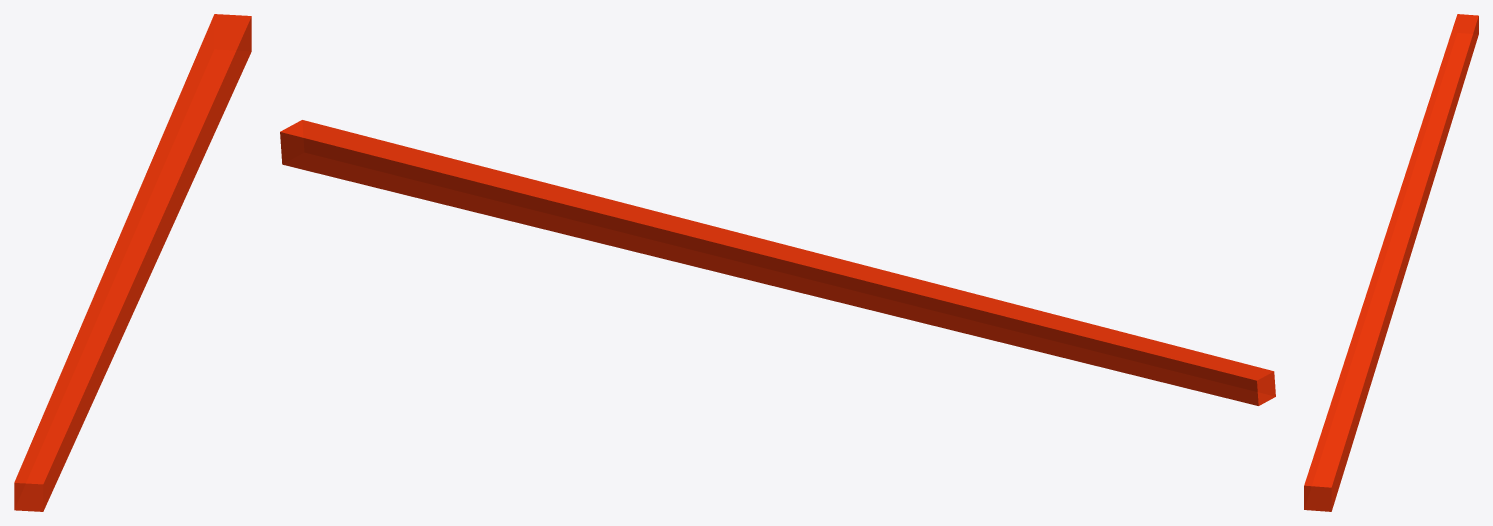
File: Event_420107950_EErechit_68.fbx
The picture shows the model from 3 angles, left to right: view 1: azimuth 90°, elevation 25°; view 2: azimuth 150°, elevation 25°; view 3: azimuth 270°, elevation 25°; orthographic projection. The views are drawn at different scales.
Visible parts, largest first — view 1: Model; view 2: Model; view 3: Model.
Boxes of the visible parts, x1,y1,x2,y2 form: Model: [14, 14, 251, 511]; Model: [280, 120, 1275, 405]; Model: [1304, 14, 1478, 511].
Size of the model in its own units: 3.25 by 0.3289 by 0.5852.
